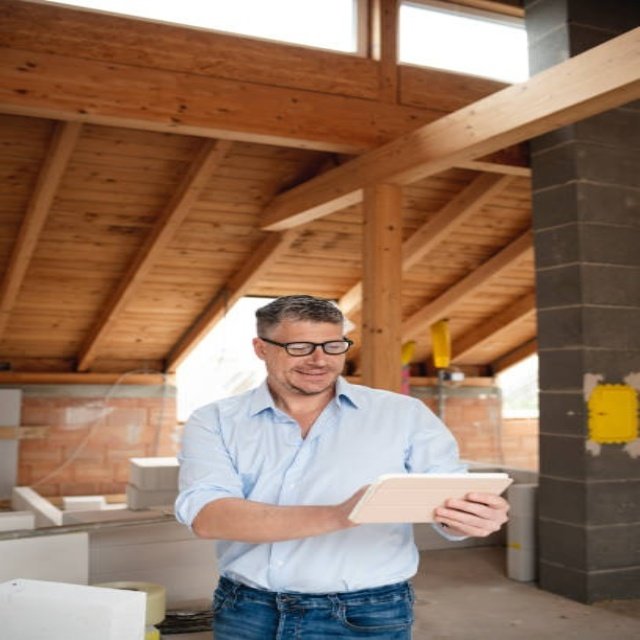Gafas: (260, 336, 353, 357)
Sin_guantes: (433, 491, 510, 538)
Sin_mascara: (292, 368, 334, 389)
